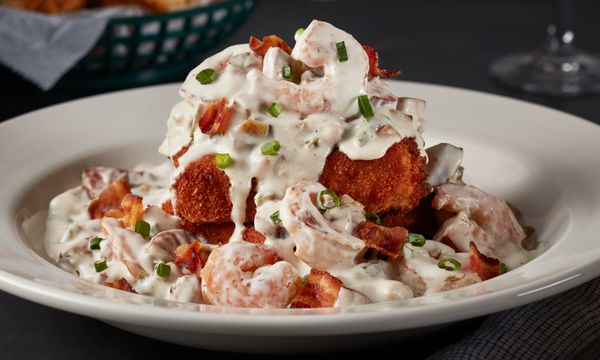curry: (12, 4, 599, 360)
sandwich: (486, 0, 600, 98)
